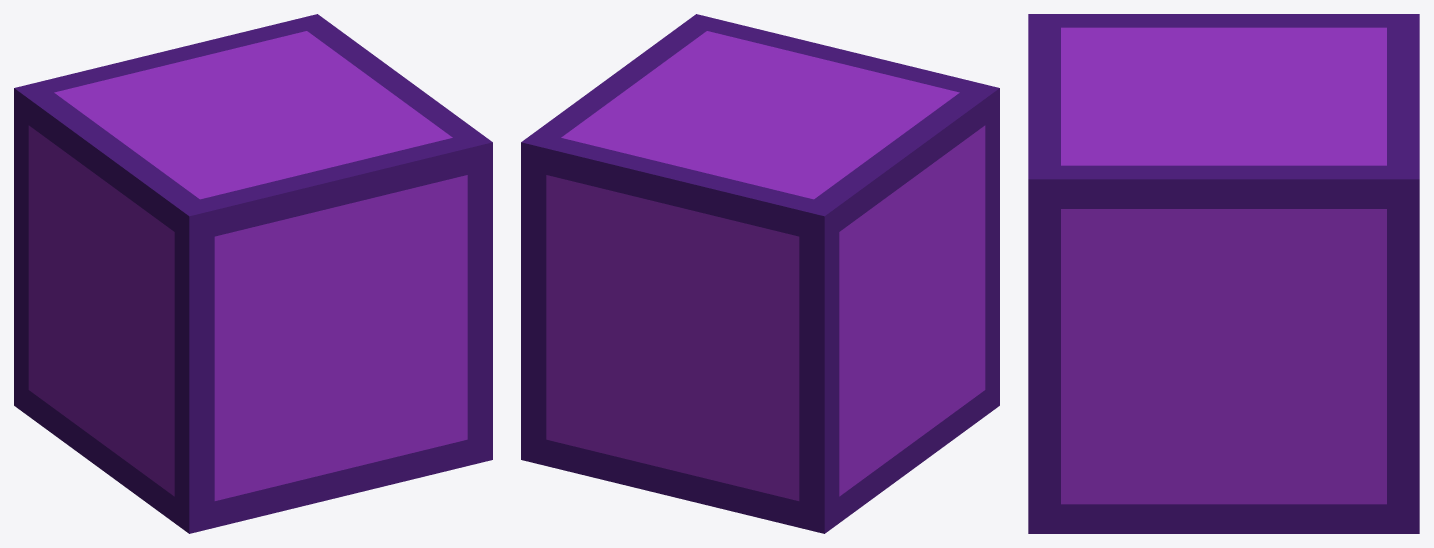
File: floor_cube.obj
3 views of the same model, side by side, from view 1: azimuth 30°, elevation 25°; view 2: azimuth 150°, elevation 25°; view 3: azimuth 270°, elevation 25° (orthographic). The views are drawn at different scales.
Bounding box in the file's own units: 1.2 × 1.2 × 1.2.
1 material, 1 textured.
